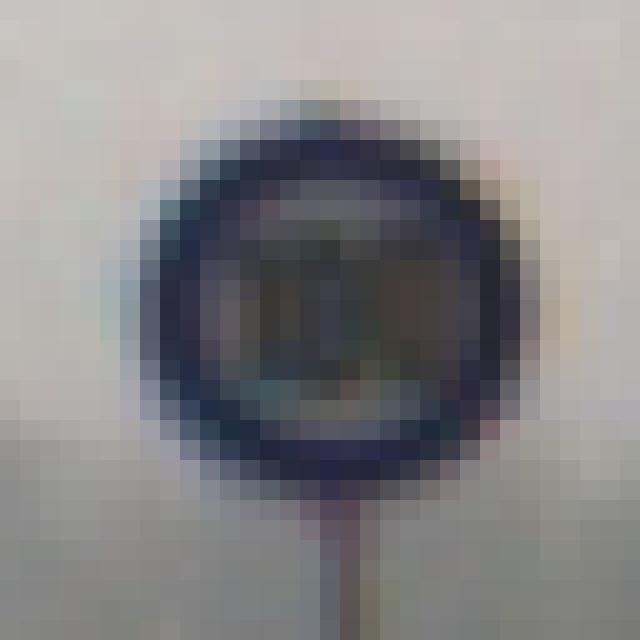SPEED LIMIT 100: (125, 121, 534, 491)
